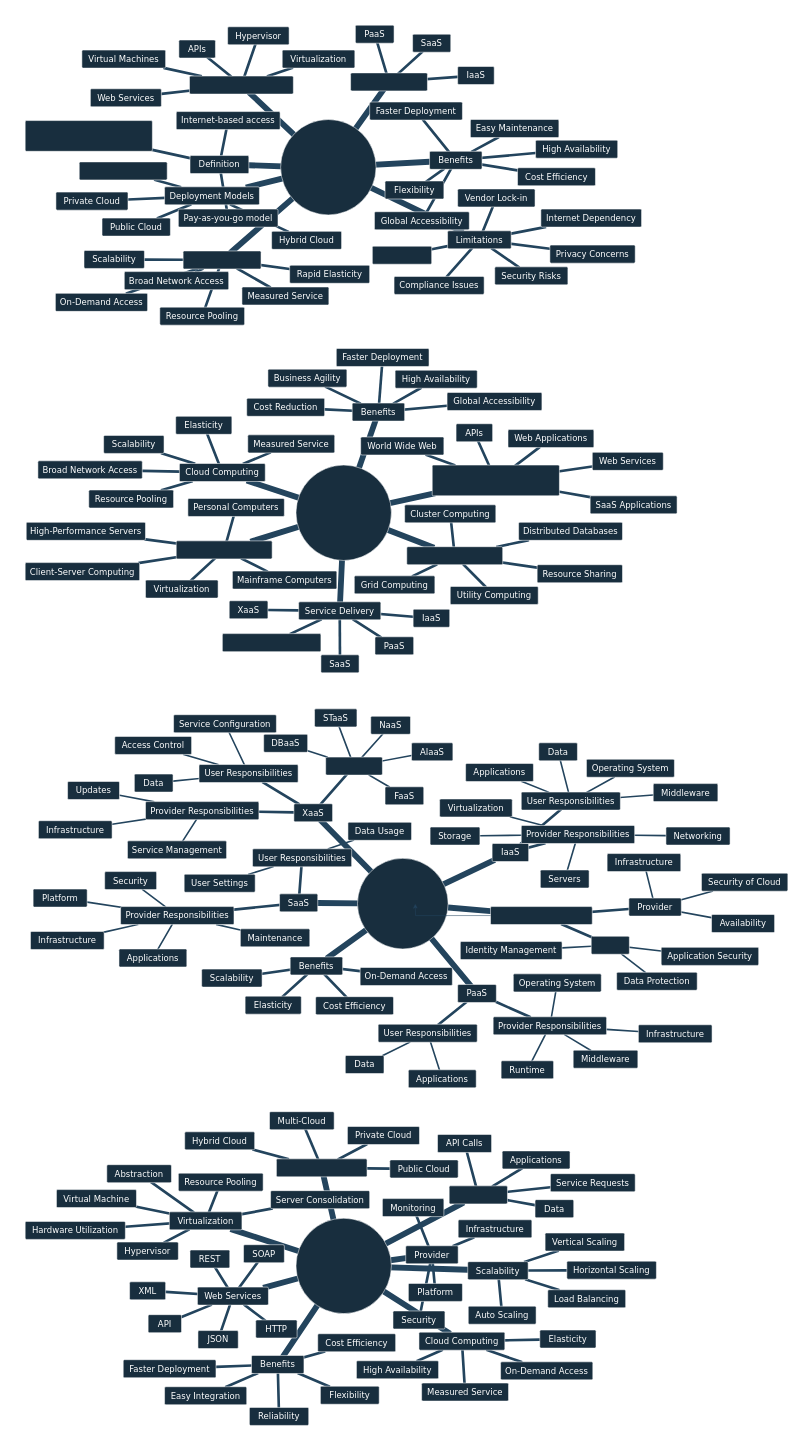
The diagram is 797 pixels wide and 1435 high, and some of its shapes have lost their labels. The centre of each missing label's shape, as x and y in pixels:
Characteristics: pixel 222 259
Cloud Computing Fundamentals: pixel 328 167
Cloud Deployment: pixel 321 1167
Cloud Service Models: pixel 402 903
Community Cloud: pixel 123 170
Consumer: pixel 478 1194
Distributed Systems: pixel 454 555
Downtime: pixel 402 255
Enabling Technologies: pixel 241 85
Evolution of Cloud Computing: pixel 343 512
Examples: pixel 353 766
Hardware Evolution: pixel 224 549
Internet & Software Evolution: pixel 495 480
On-demand delivery of computing services: pixel 88 135
On-Demand Services: pixel 271 642
Service Models: pixel 388 81
Shared Responsibility: pixel 541 915
User: pixel 610 945
Virtualization & Web Services: pixel 343 1266
